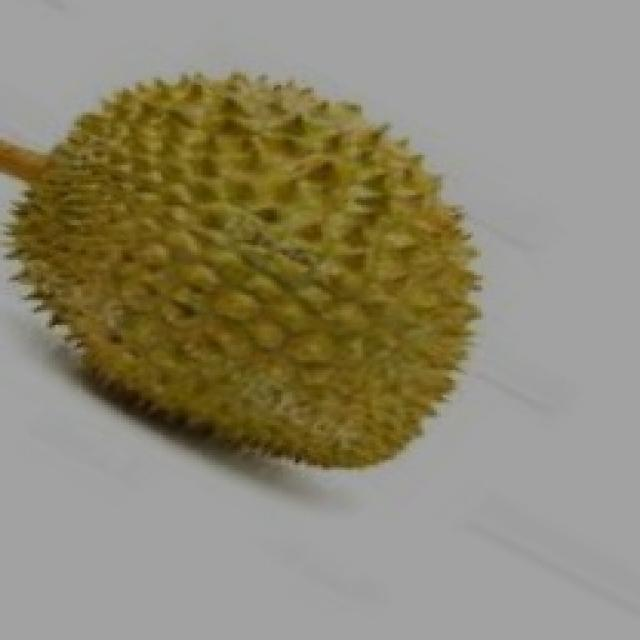fruit: (0, 70, 363, 502)
